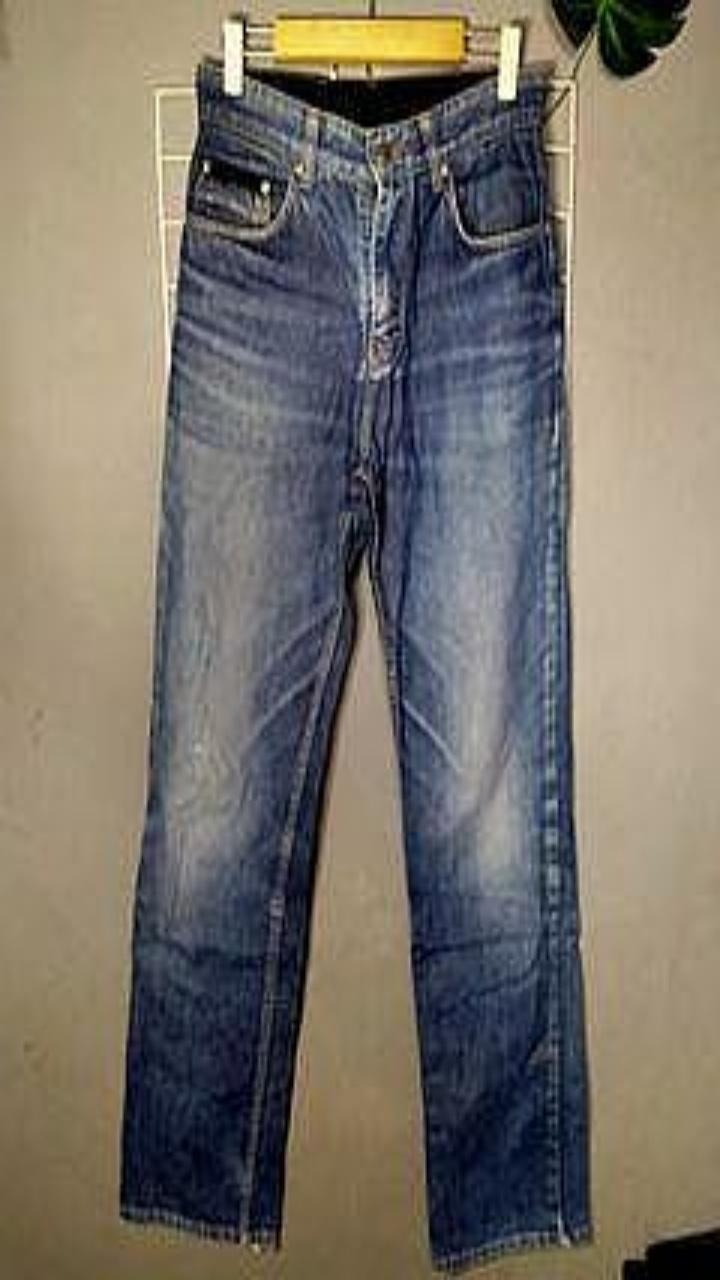Jeans: (121, 56, 590, 1269)
